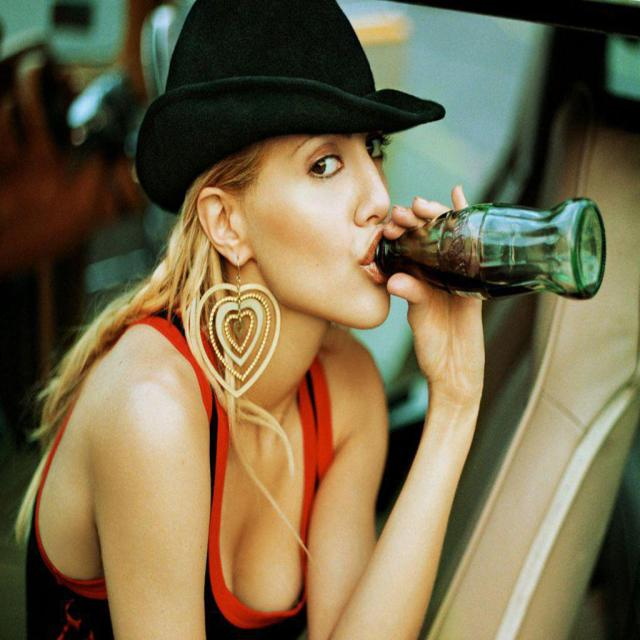no-earmuff: (188, 178, 268, 287)
